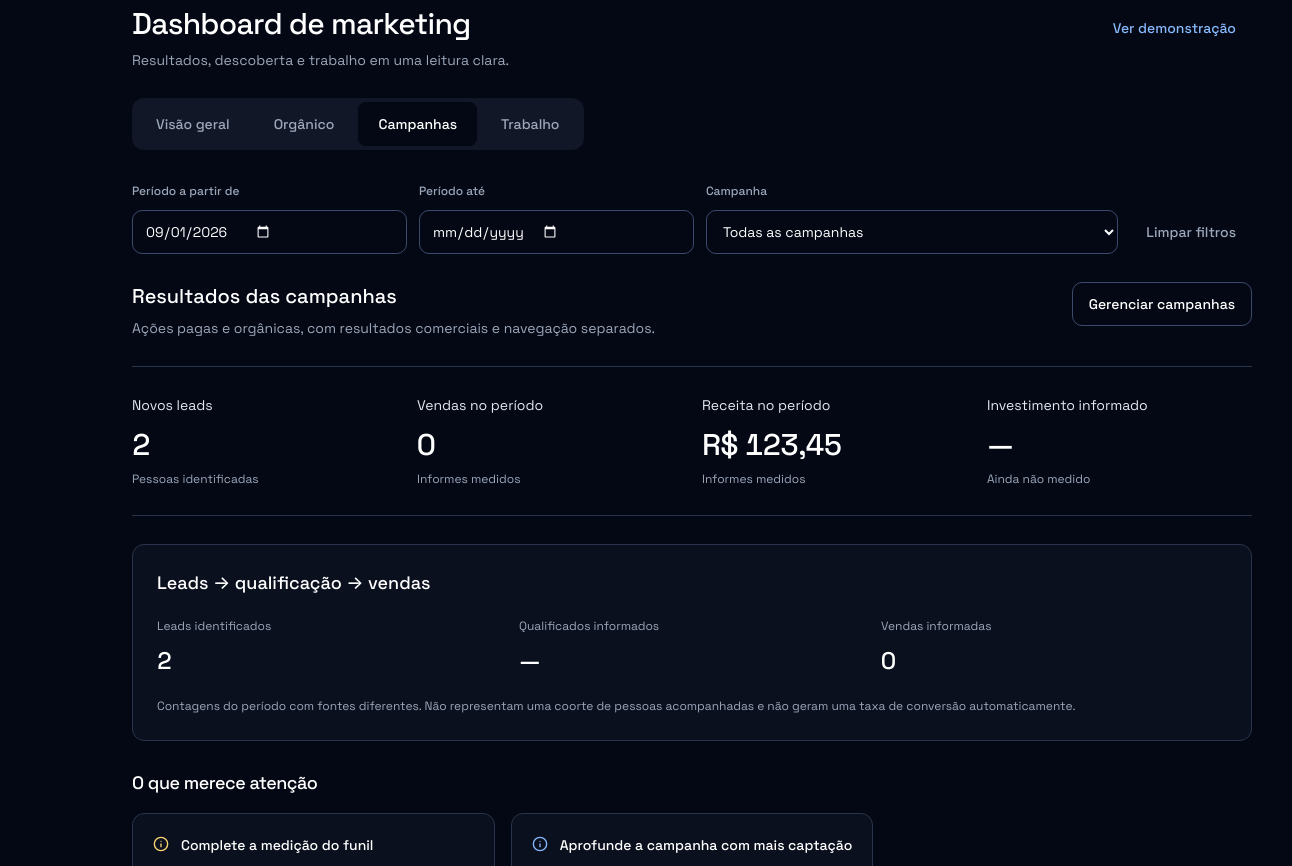
Test: Live dashboard › clears result filters without losing the selected dashboard tab
This screenshot has width=1292, height=866.
Expected: the text with test id "live-kpi-leads" is shown, [132,425,150,464]
Click the button "Limpar filtros" at (1191, 232), box [1130,210,1252,254]
(page scrolled)
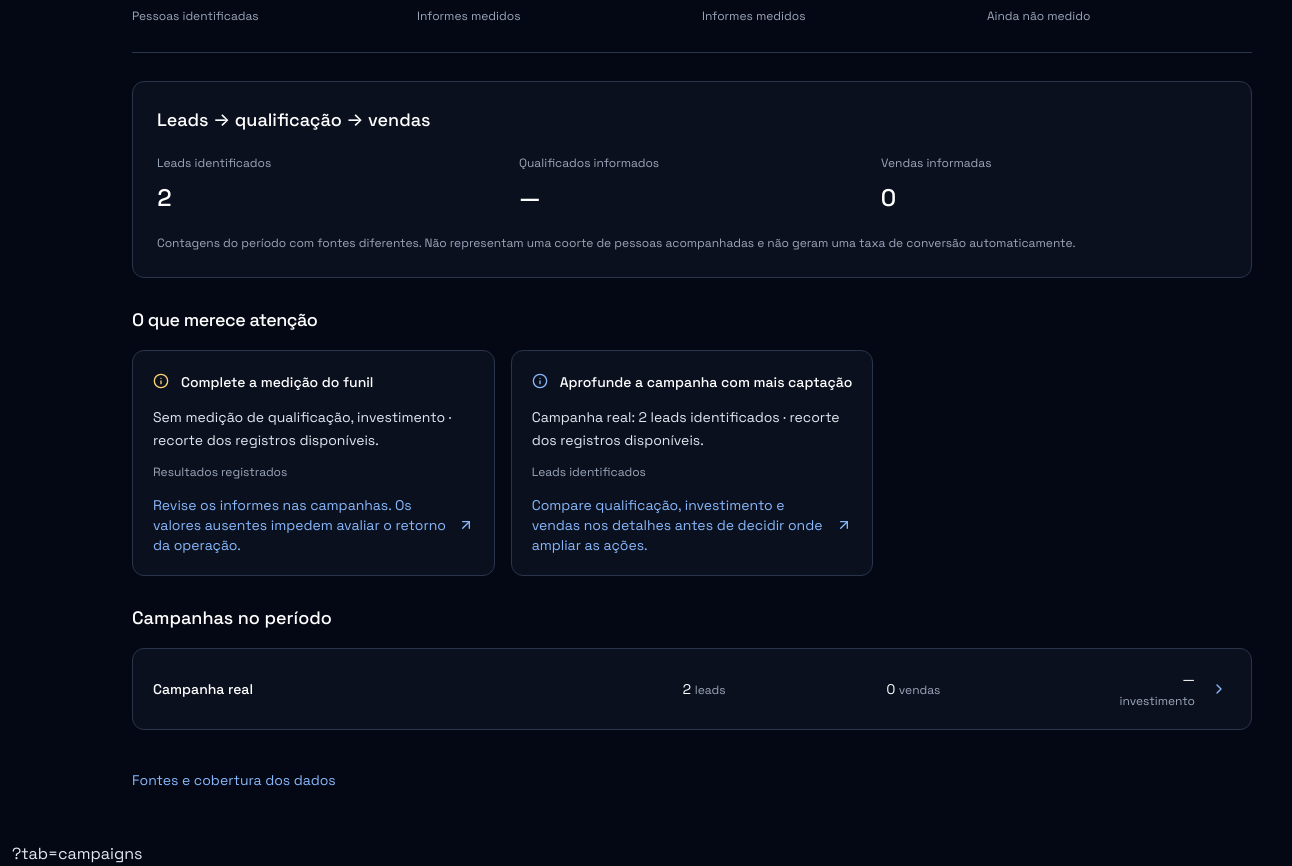
Now the text with test id "location" reads "?tab=campaigns", box [12,843,142,864]
